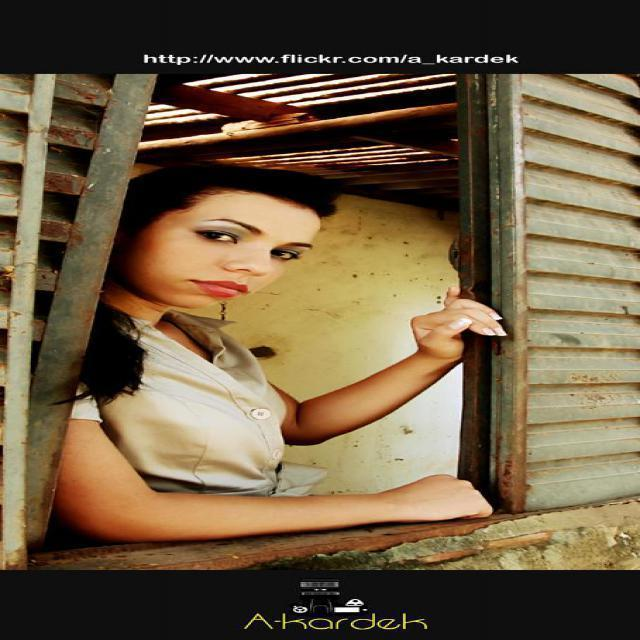closed-mouth: (187, 277, 249, 297)
